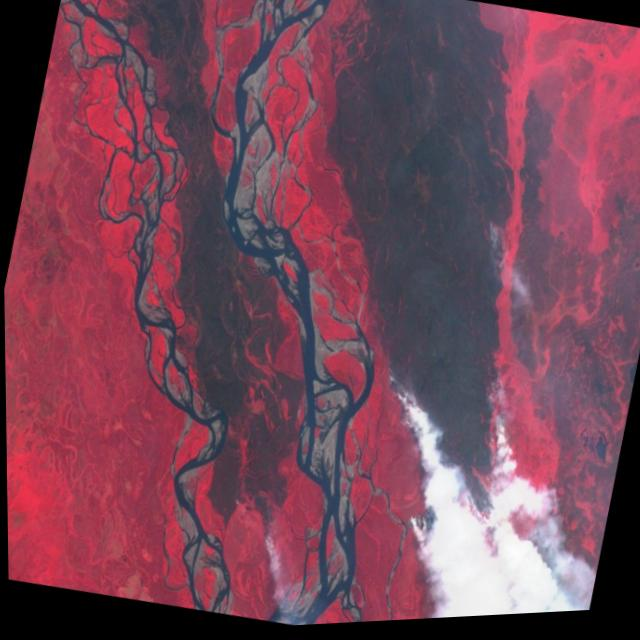fire: (340, 351, 539, 587), (213, 453, 306, 568), (474, 207, 517, 258)
